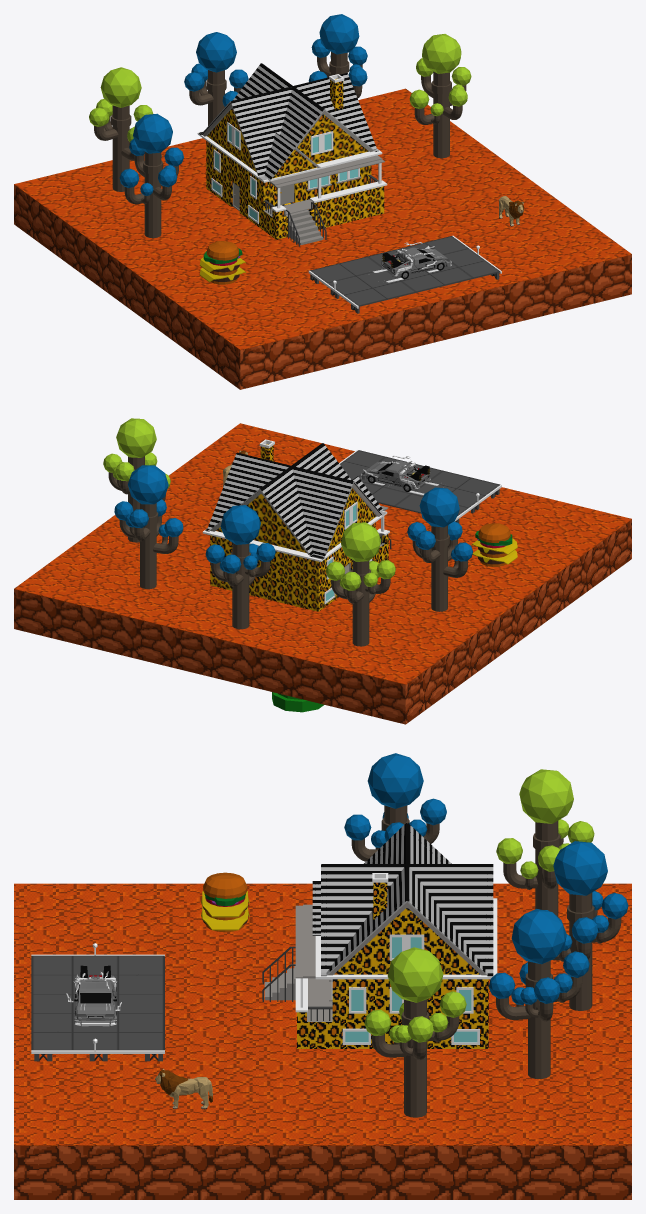
3 views of the same model, one above another, from view 1: azimuth 30°, elevation 25°; view 2: azimuth 150°, elevation 25°; view 3: azimuth 270°, elevation 25° (orthographic). The views are drawn at different scales.
Parts seen in each view (by area): view 1: Cube.001, Cube.637, VEHICLES_DELOREAN, OBJRANDOM_HAMBURGER; view 2: Cube.001, Cube.637, VEHICLES_DELOREAN, OBJRANDOM_HAMBURGER, UNDERGROUND_PIPES; view 3: Cube.001, Cube.637, OBJRANDOM_HAMBURGER, VEHICLES_DELOREAN, ANIMAL_LEON.
Part boxes in pixels (x1=…): Cube.001: x1=14, y1=14, x2=631, y2=389; Cube.637: x1=197, y1=63, x2=387, y2=246; VEHICLES_DELOREAN: x1=373, y1=242, x2=451, y2=282; OBJRANDOM_HAMBURGER: x1=199, y1=241, x2=245, y2=284; Cube.001: x1=14, y1=418, x2=631, y2=724; Cube.637: x1=202, y1=439, x2=391, y2=611; VEHICLES_DELOREAN: x1=360, y1=455, x2=441, y2=495; OBJRANDOM_HAMBURGER: x1=471, y1=523, x2=517, y2=566; UNDERGROUND_PIPES: x1=272, y1=692, x2=324, y2=712; Cube.001: x1=14, y1=753, x2=631, y2=1199; Cube.637: x1=262, y1=823, x2=497, y2=1048; OBJRANDOM_HAMBURGER: x1=201, y1=872, x2=249, y2=932; VEHICLES_DELOREAN: x1=66, y1=965, x2=121, y2=1026; ANIMAL_LEON: x1=155, y1=1069, x2=212, y2=1109.
Bounding box in the file's own units: 4000 × 2247 × 4000.
Materials: 38 (5 with a texture image).
